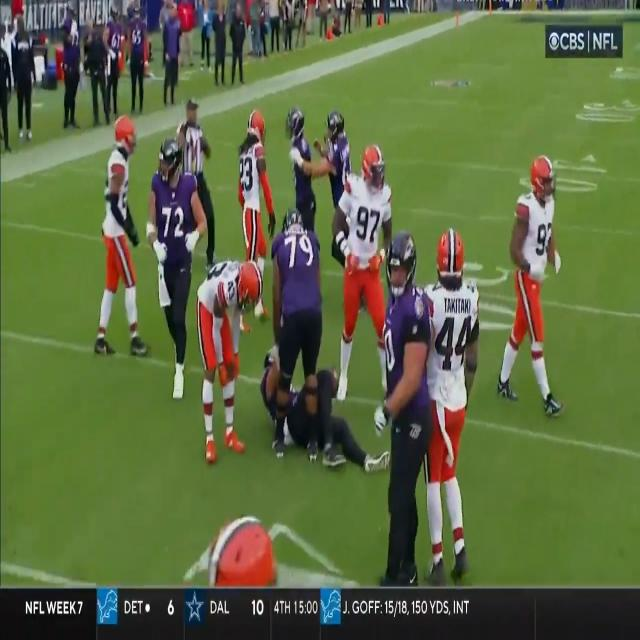players: (402, 230, 466, 595), (497, 150, 565, 418), (337, 131, 388, 421), (379, 223, 419, 581), (98, 127, 148, 375), (154, 132, 197, 410), (194, 257, 248, 467), (275, 209, 319, 426), (244, 100, 269, 320)
